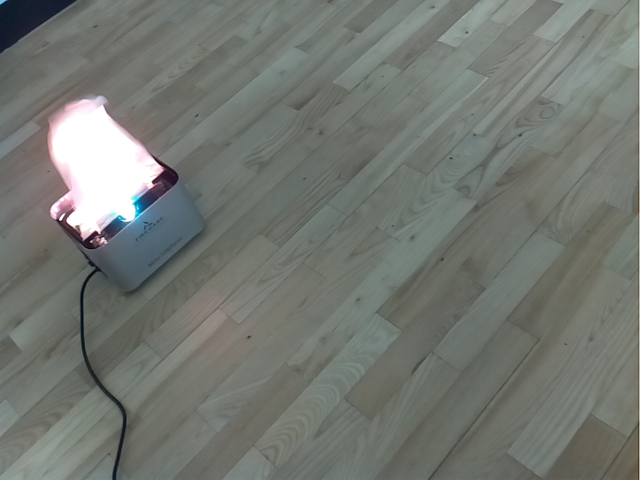fire: (46, 95, 166, 242)
